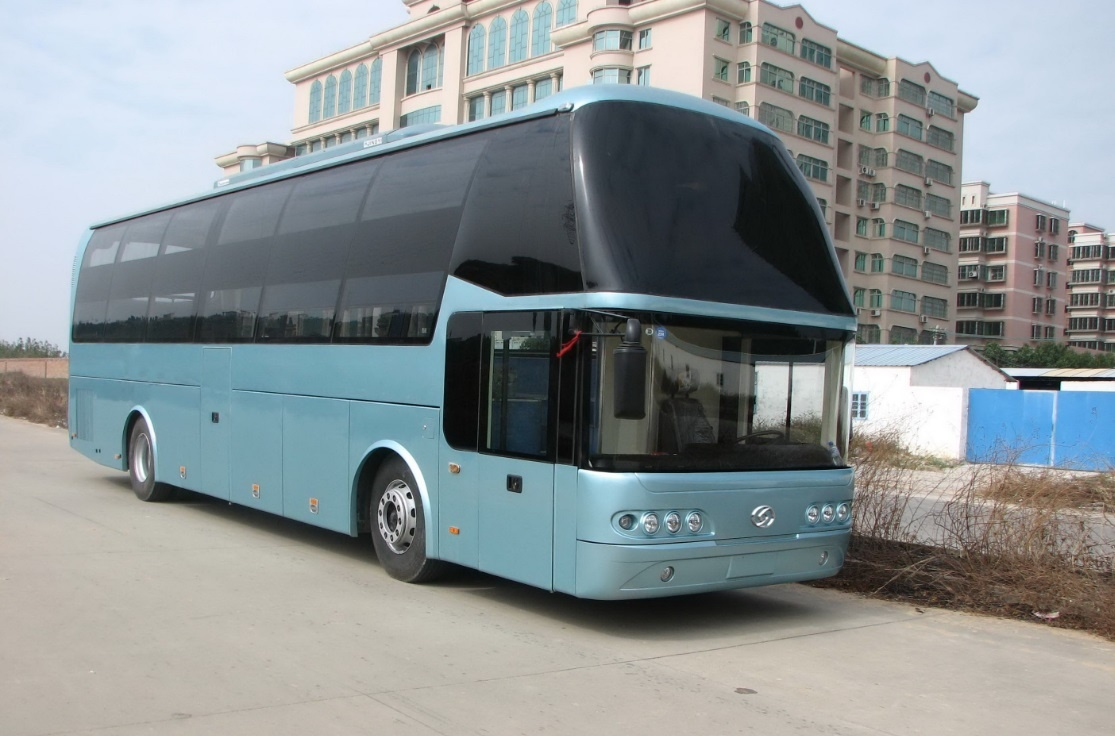bus: (76, 109, 876, 640)
